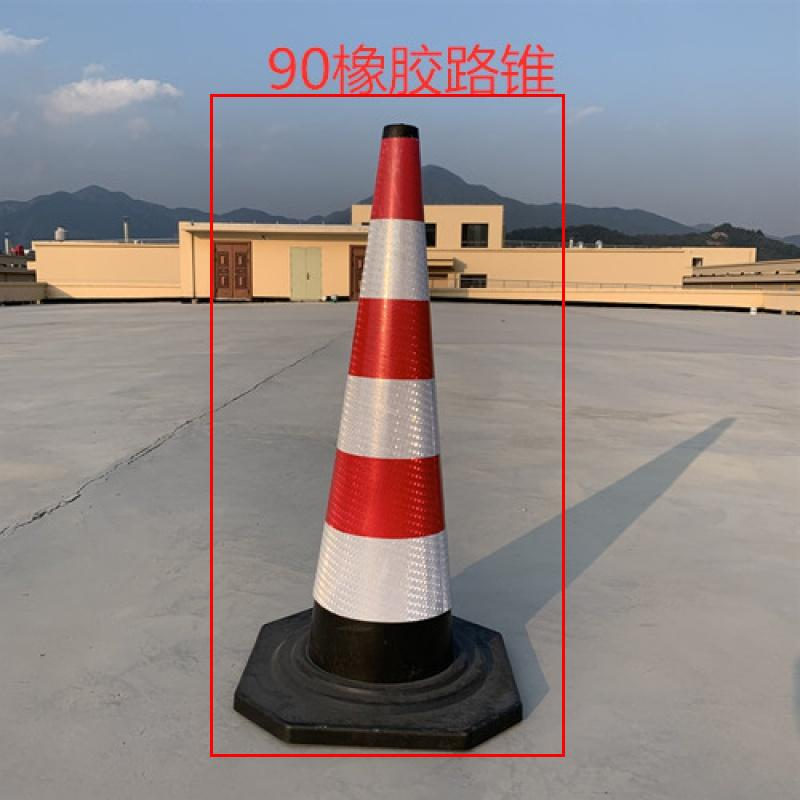traffic_cone: (249, 104, 559, 763)
